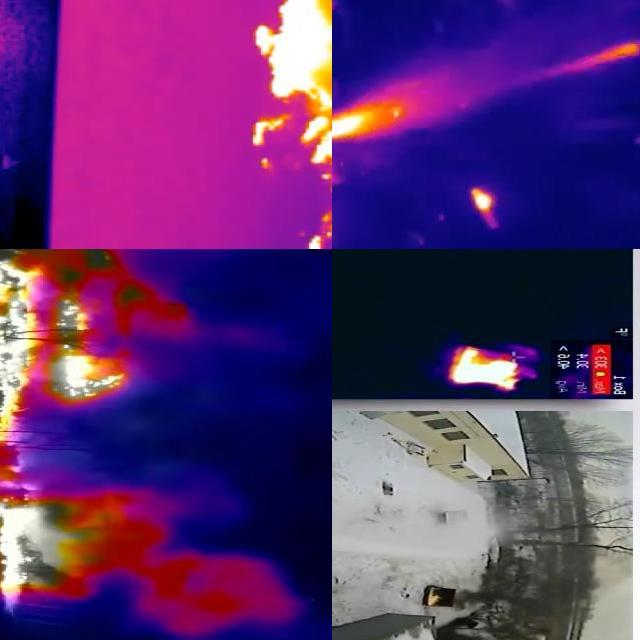fire: (1, 250, 164, 611), (256, 1, 333, 250), (333, 105, 410, 151), (449, 346, 525, 390), (466, 185, 502, 227), (426, 586, 442, 607)
